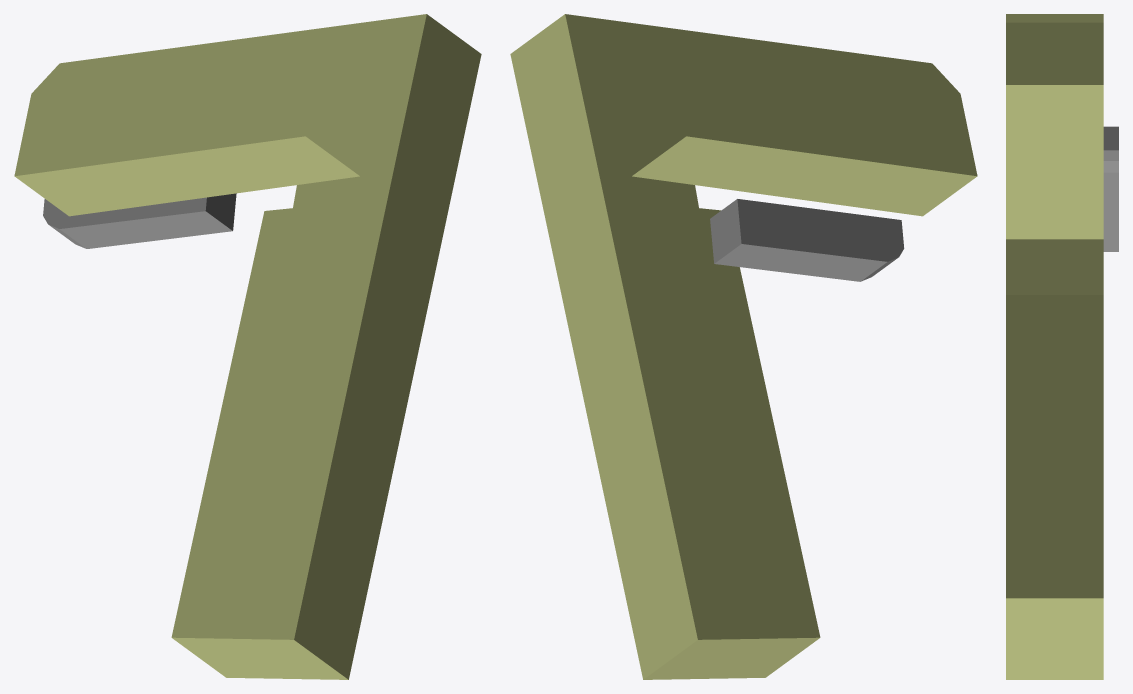
3 views of the same model, side by side, from view 1: azimuth 30°, elevation 25°; view 2: azimuth 150°, elevation 25°; view 3: azimuth 270°, elevation 25° (orthographic). The views are drawn at different scales.
Visible parts, largest first — view 1: 0_2_1_3_0_0_2_1_1; view 2: 0_2_1_3_0_0_2_1_1; view 3: 0_2_1_3_0_0_2_1_1.
Part boxes in pixels (<box>): 0_2_1_3_0_0_2_1_1: <box>14,14,481,679</box>; 0_2_1_3_0_0_2_1_1: <box>510,14,977,679</box>; 0_2_1_3_0_0_2_1_1: <box>1006,14,1118,679</box>.
Bounding box in the file's own units: 26.09 × 38.31 × 6.95.
